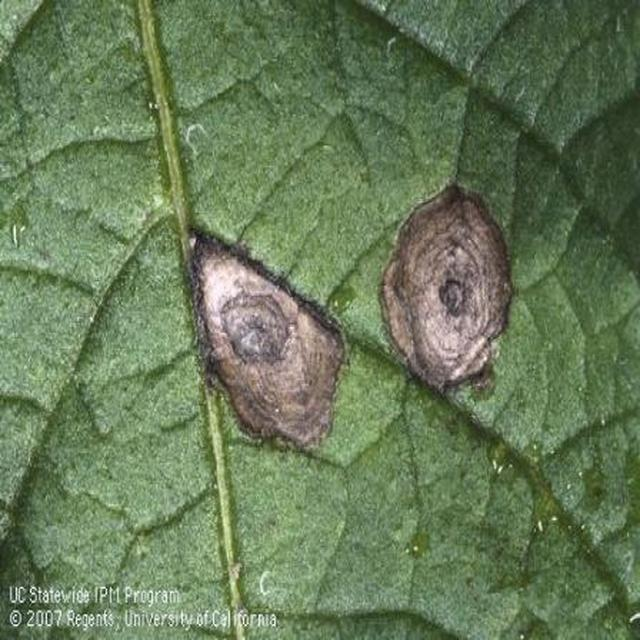Early Blight Leaf: (138, 138, 640, 640)
